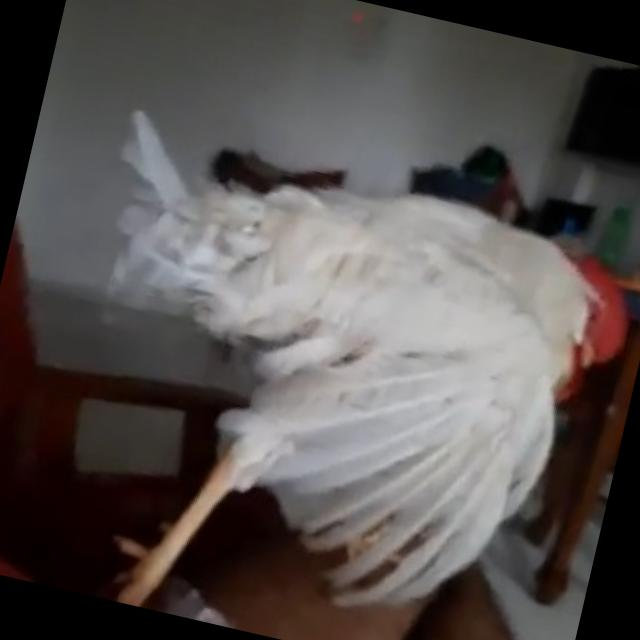wing and leg stretching: (0, 103, 640, 640)
